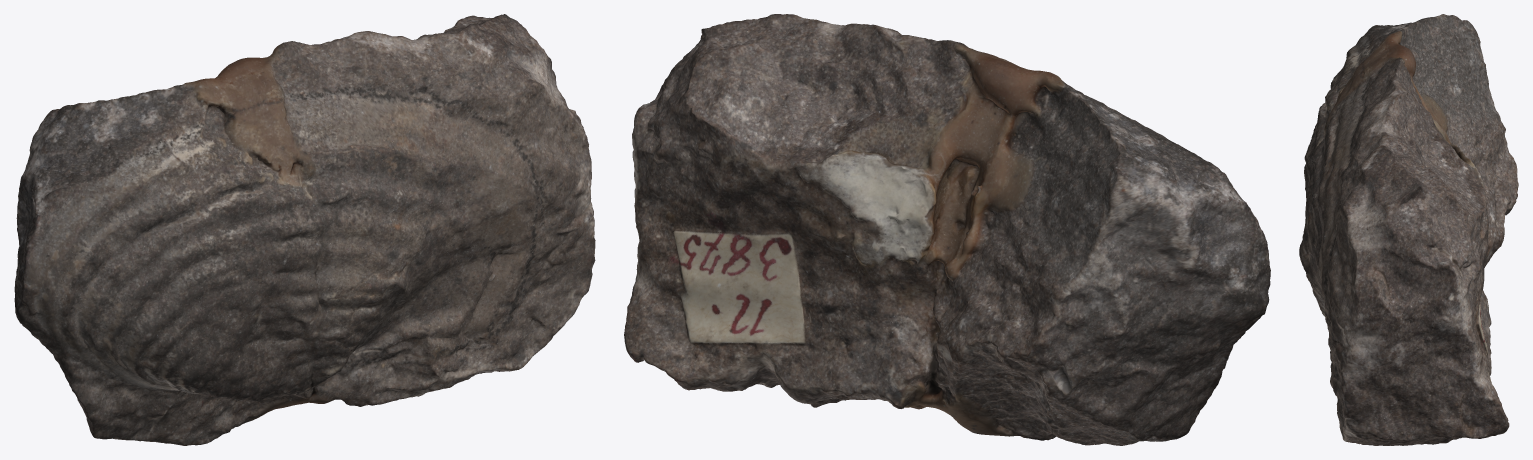
File: EWS0014111.glb
The picture shows the model from 3 angles, left to right: view 1: azimuth 30°, elevation 25°; view 2: azimuth 150°, elevation 25°; view 3: azimuth 270°, elevation 25°; orthographic projection. The views are drawn at different scales.
Parts seen in each view (by area): view 1: input; view 2: input; view 3: input.
Part boxes in pixels (box(x1,y1,x2,y2)): input: box(14, 14, 595, 445); input: box(624, 14, 1270, 445); input: box(1299, 14, 1518, 445).
Size of the model in its own units: 0.0378 by 0.0235 by 0.0149.
1 material, 1 textured.
